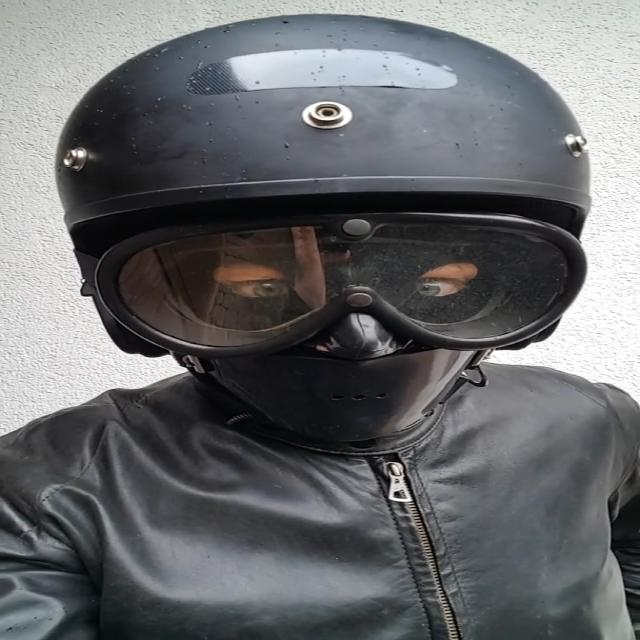Helmet_Wearer: (56, 0, 607, 483)
Jacket_Wearer: (0, 328, 640, 640)
Person: (0, 28, 640, 640)
